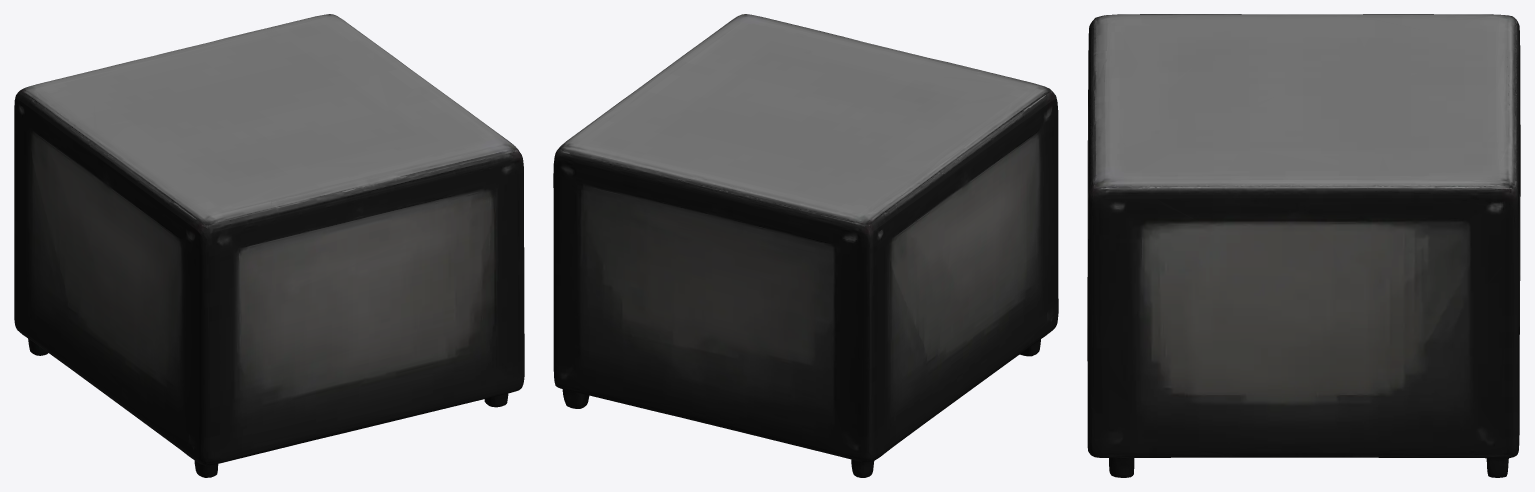
The picture shows the model from 3 angles, left to right: view 1: azimuth 30°, elevation 25°; view 2: azimuth 150°, elevation 25°; view 3: azimuth 270°, elevation 25°; orthographic projection. The views are drawn at different scales.
Visible parts, largest first — view 1: geometry_0; view 2: geometry_0; view 3: geometry_0.
Boxes of the visible parts, x1=… form: geometry_0: x1=14, y1=14, x2=524, y2=477; geometry_0: x1=553, y1=14, x2=1058, y2=477; geometry_0: x1=1087, y1=14, x2=1520, y2=477.
Size of the model in its own units: 0.4673 by 0.3657 by 0.4817.
Materials: 1 (1 with a texture image).
